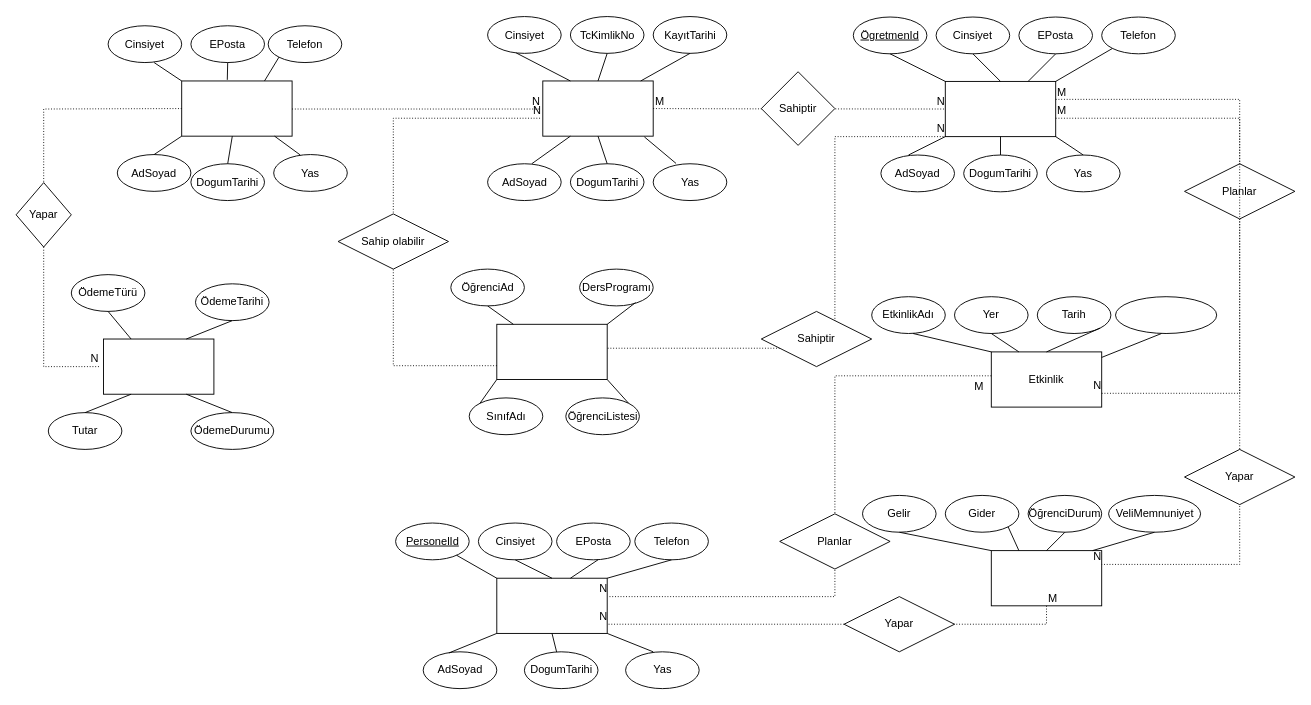
The diagram is 1311 pixels wide and 705 high, and some of its shapes have lost their labels. Each missing label, with the box of its shape:
KatılımcıAdSoyad: (1115, 296, 1217, 334)
Personel: (496, 577, 607, 633)
Raporlama: (990, 550, 1102, 606)
Sınıf: (496, 323, 607, 380)
Veli: (181, 80, 292, 136)
Ödeme: (103, 338, 214, 394)
Öğrenci: (542, 80, 653, 136)
Öğretmen: (944, 80, 1056, 137)
